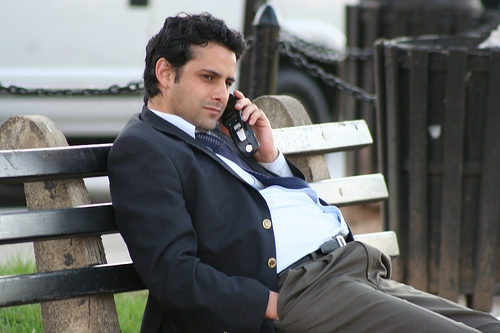phone: (224, 87, 265, 165)
talk: (191, 51, 279, 169)
